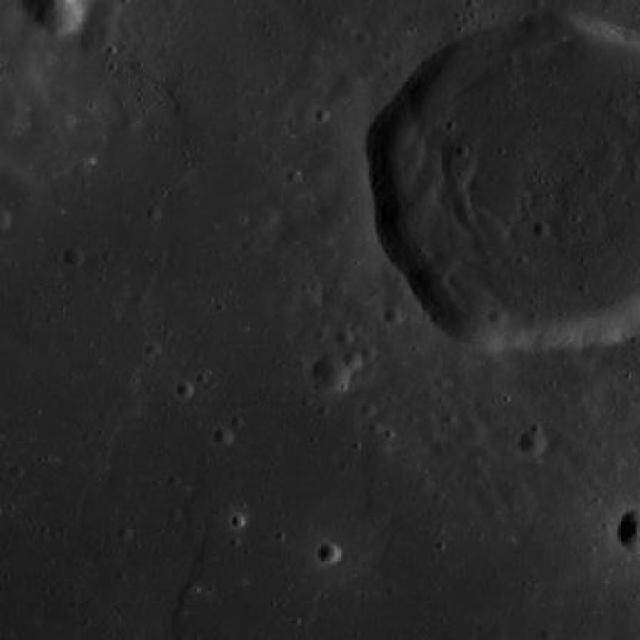crater: (73, 12, 116, 54), (310, 356, 350, 393), (332, 69, 366, 102), (518, 428, 546, 456), (315, 541, 340, 564), (462, 416, 484, 438), (64, 246, 86, 266), (342, 351, 362, 371), (212, 426, 232, 446), (125, 289, 144, 308), (335, 330, 353, 348), (488, 310, 507, 327), (384, 307, 402, 324), (284, 168, 302, 185), (175, 382, 194, 398), (532, 222, 550, 238), (358, 402, 376, 418), (438, 410, 454, 426), (1, 0, 2, 1)
